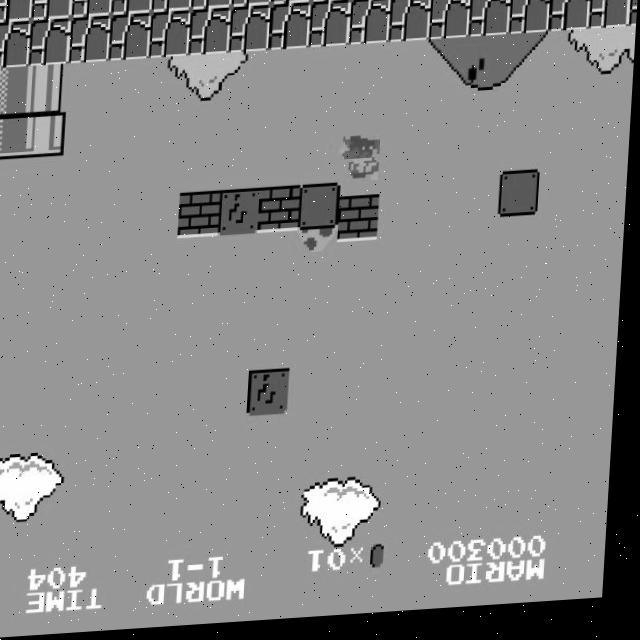1- brick_block: (260, 189, 303, 237), (180, 193, 223, 241)
11- little_mario: (340, 139, 386, 190)
12- mushroom: (300, 229, 344, 261)
13- mystery_block: (220, 191, 263, 239), (252, 373, 295, 420)
14- pipe: (27, 65, 70, 113), (0, 67, 30, 115)
15- pipe_head: (25, 110, 68, 158), (0, 113, 28, 160)
17- undestructible_block: (149, 12, 192, 61), (109, 14, 152, 63), (389, 0, 432, 48), (349, 2, 392, 50), (309, 4, 352, 52), (269, 6, 312, 54), (229, 8, 272, 56), (189, 10, 232, 58), (69, 17, 112, 65), (29, 19, 72, 67), (429, 0, 472, 46), (469, 0, 512, 44), (509, 0, 552, 42), (549, 0, 592, 40), (589, 0, 632, 37), (0, 21, 32, 69), (31, 0, 73, 21), (71, 0, 113, 19), (0, 0, 33, 23), (111, 0, 153, 17), (151, 0, 193, 15), (191, 0, 233, 13), (231, 0, 273, 11), (271, 0, 313, 9), (630, 0, 639, 35), (311, 0, 353, 7), (351, 0, 393, 5), (391, 0, 433, 2), (431, 0, 473, 0)
3- empty_block: (500, 177, 543, 225), (300, 187, 343, 235)
